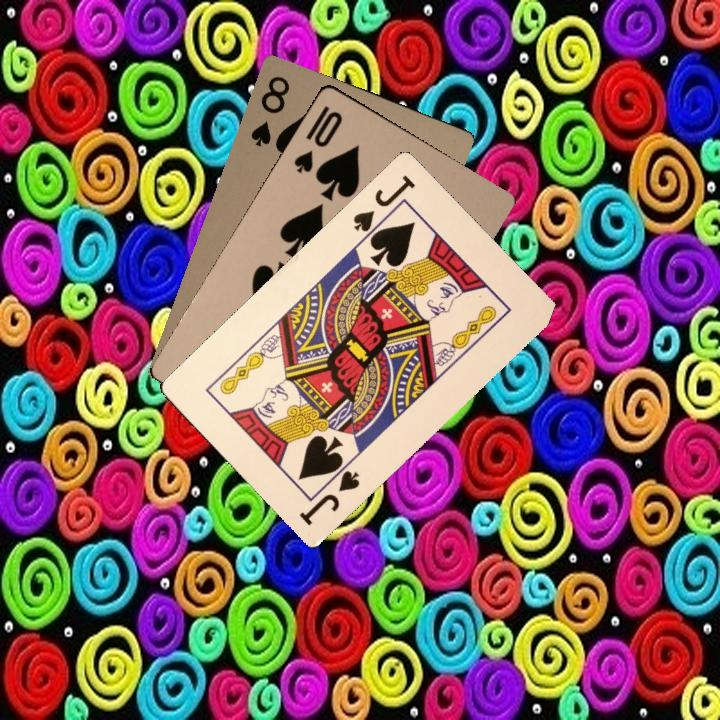10s: (289, 101, 345, 175)
8s: (246, 72, 293, 149)
Js: (295, 455, 363, 528), (349, 170, 418, 241)
